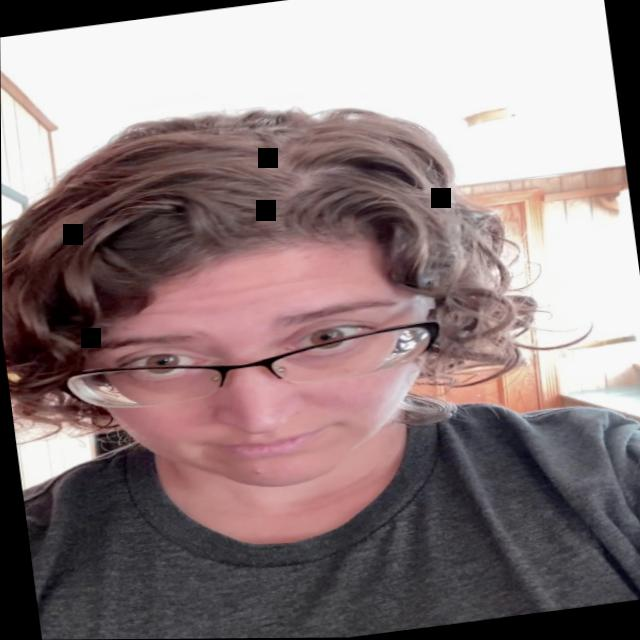NO-Mask: (54, 226, 457, 516)
